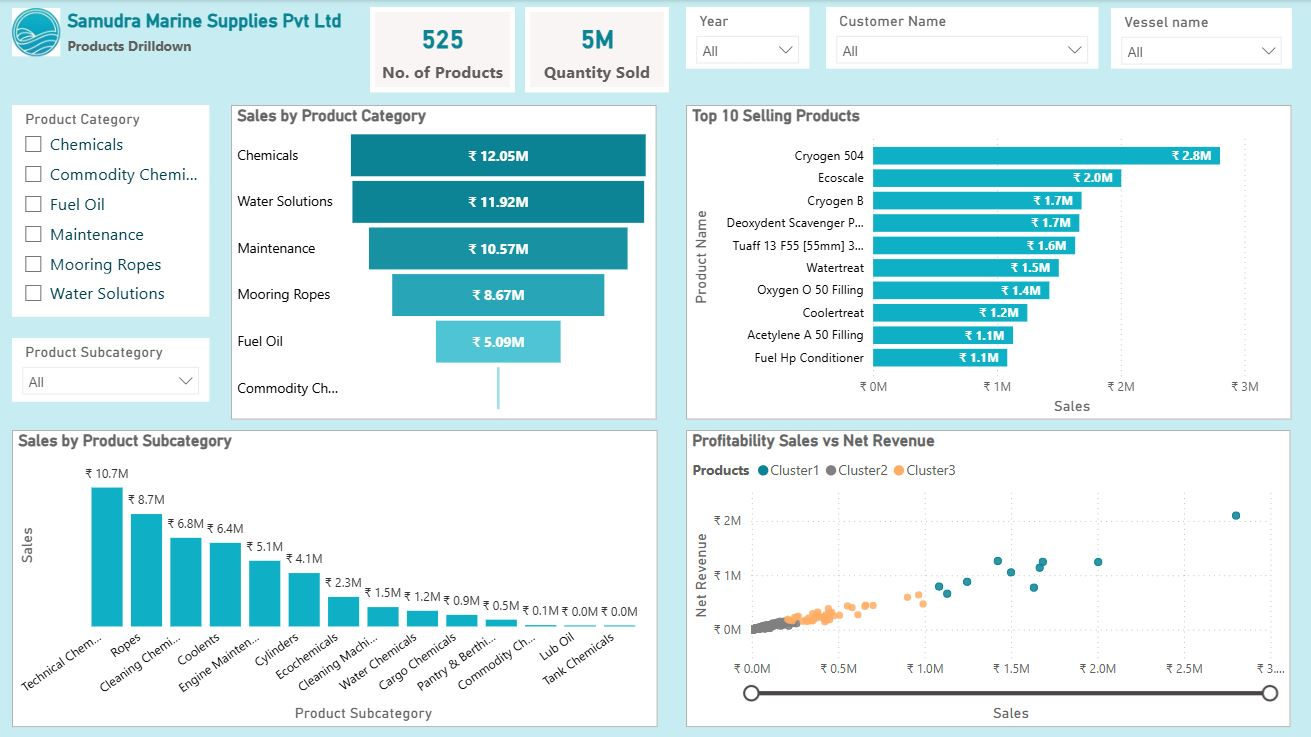

The dashboard page shown, as its layout file describes it:
{"tool":"powerbi","page":{"name":"Products Drilldown","canvas":[1280,720],"ordinal":4},"visuals":[{"type":"funnel","title":"Sales by Product Category ","fields":{"Category":["dim_product_category.Product Category "],"Y":["fact _orders.Actual_Sales"]},"box":[225.7,102.1,414.3,306.4],"z":0},{"type":"card","fields":{"Values":["fact _orders.quantity_sold"]},"box":[511.6,6.8,140.1,82.7],"z":1000},{"type":"barChart","title":"Top 10 Selling Products","fields":{"Y":["fact _orders.Actual_Sales"],"Category":["dim_products.Product Name"]},"box":[668.2,102.1,589.4,306.4],"z":2000},{"type":"columnChart","title":"Sales by Product Subcategory ","fields":{"Category":["dim_product_category.Product Subcategory "],"Y":["fact _orders.Actual_Sales"]},"box":[12.7,418.6,627.8,289.1],"z":3000},{"type":"slicer","fields":{"Values":["dim_customers.Customer Name"]},"box":[804.4,6.8,264.6,60.3],"z":4000},{"type":"slicer","fields":{"Values":["dim_vessels.Vessel name"]},"box":[1081.6,7.8,176,59.3],"z":5000},{"type":"scatterChart","title":"Profitability Sales vs Net Revenue","fields":{"X":["fact _orders.Actual_Sales"],"Category":["dim_products.Product Name"],"Y":["fact _orders.total_Net_Revenue"],"Series":["dim_products.Product Name (clusters) 2"]},"box":[668.2,418.2,588.4,288.9],"z":6000},{"type":"slicer","fields":{"Values":["dim_product_category.Product Category "]},"box":[12.6,102.1,191.6,206.2],"z":7000},{"type":"slicer","fields":{"Values":["dim_product_category.Product Subcategory "]},"box":[12.6,328.8,191.6,62.2],"z":8000},{"type":"slicer","fields":{"Values":["dim_date.Year"]},"box":[668.2,6.8,119.6,60.3],"z":9000},{"type":"textbox","title":"Samudra Marine Supplies Pvt Ltd","box":[61.3,9.7,299.6,44.7],"z":10000},{"type":"image","box":[12.6,7.8,46.7,47.7],"z":11000},{"type":"card","fields":{"Values":["Count(fact _orders.Product Code)"]},"box":[360.9,6.8,141,82.7],"z":12000}]}

Visuals, with their boxes in screenshot pixels (x1, y1, x2, y2), scaled from the page's 1280x720 canvas onto the 1311x737 screenshot:
"Sales by Product Category " funnel: BBox(231, 105, 656, 418)
card - fact _orders.quantity_sold: BBox(524, 7, 667, 92)
"Top 10 Selling Products" barChart: BBox(684, 105, 1288, 418)
"Sales by Product Subcategory " columnChart: BBox(13, 428, 656, 724)
slicer - dim_customers.Customer Name: BBox(824, 7, 1095, 69)
slicer - dim_vessels.Vessel name: BBox(1108, 8, 1288, 69)
"Profitability Sales vs Net Revenue" scatterChart: BBox(684, 428, 1287, 724)
slicer - dim_product_category.Product Category : BBox(13, 105, 209, 316)
slicer - dim_product_category.Product Subcategory : BBox(13, 337, 209, 400)
slicer - dim_date.Year: BBox(684, 7, 807, 69)
"Samudra Marine Supplies Pvt Ltd" textbox: BBox(63, 10, 370, 56)
image: BBox(13, 8, 61, 57)
card - Count(fact _orders.Product Code): BBox(370, 7, 514, 92)
